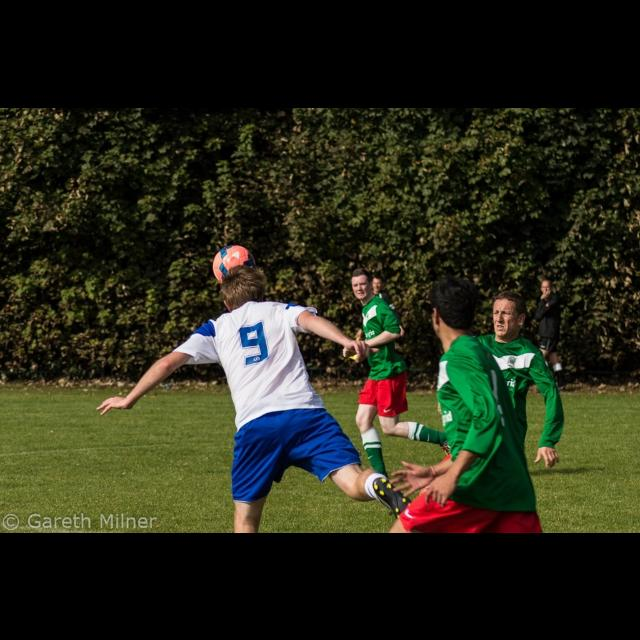Football: (212, 245, 252, 283)
